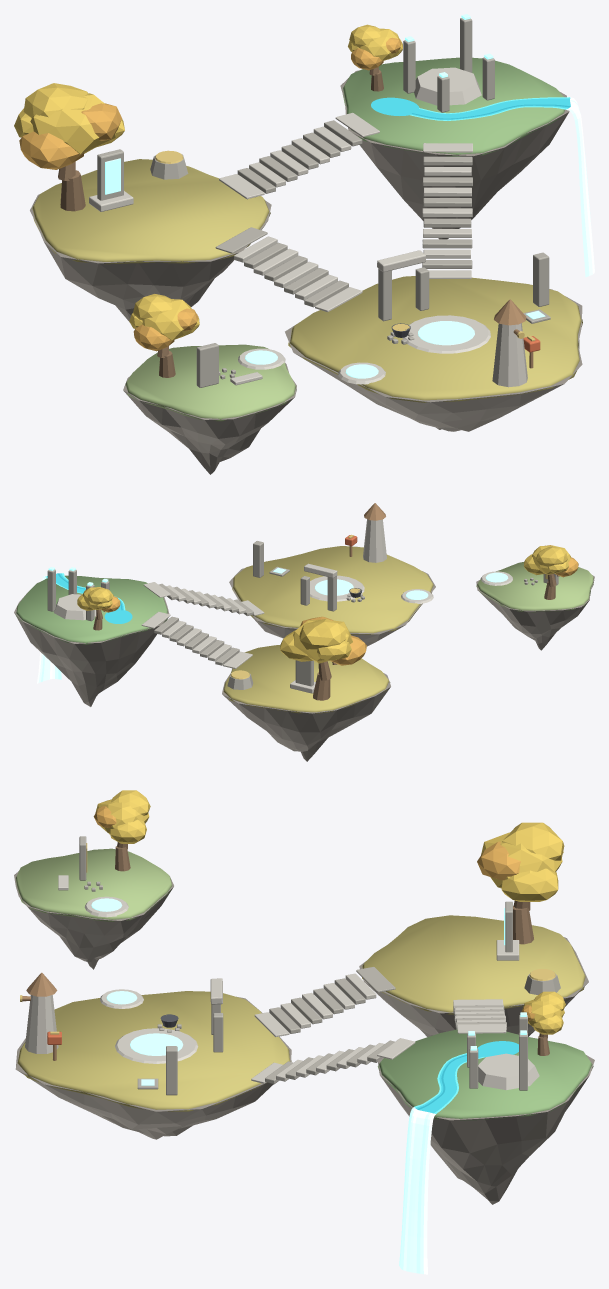
Rendered from sky-island-v2.glb.
3 renders of one model, top to bottom at view 1: azimuth 30°, elevation 25°; view 2: azimuth 150°, elevation 25°; view 3: azimuth 270°, elevation 25°, orthographic. The views are drawn at different scales.
Visible parts, largest first — view 1: 广场 · 草地, 古树林 · 草地, 山巅 · 草地, 飞岛 · 草地, 山巅 · 岩体, 古树林 · 岩体, 广场 · 岩体, 飞岛 · 岩体, 银杏母树 · 树冠 01, 风车 · 塔身, 造物星盘 · 祭台底座, 银杏母树 · 树冠 02 (+22 smaller); view 2: 广场 · 草地, 古树林 · 草地, 山巅 · 草地, 山巅 · 岩体, 古树林 · 岩体, 飞岛 · 草地, 飞岛 · 岩体, 银杏母树 · 树冠 04, 广场 · 岩体, 风车 · 塔身, 造物星盘 · 祭台底座, 觉醒石阵 · 外台 (+11 smaller); view 3: 广场 · 草地, 古树林 · 草地, 山巅 · 草地, 山巅 · 岩体, 飞岛 · 草地, 广场 · 岩体, 东崖 · 瀑布水帘, 飞岛 · 岩体, 古树林 · 岩体, 造物星盘 · 祭台底座, 银杏母树 · 树冠 03, 风车 · 塔身 (+9 smaller).
Boxes of the visible parts, x1=… form: 广场 · 草地: x1=288, y1=276, x2=582, y2=402; 古树林 · 草地: x1=32, y1=159, x2=270, y2=264; 山巅 · 草地: x1=342, y1=57, x2=564, y2=156; 飞岛 · 草地: x1=125, y1=344, x2=296, y2=421; 山巅 · 岩体: x1=340, y1=70, x2=569, y2=239; 古树林 · 岩体: x1=30, y1=194, x2=271, y2=321; 广场 · 岩体: x1=285, y1=289, x2=582, y2=431; 飞岛 · 岩体: x1=123, y1=363, x2=296, y2=474; 银杏母树 · 树冠 01: x1=30, y1=93, x2=115, y2=154; 风车 · 塔身: x1=492, y1=323, x2=527, y2=387; 造物星盘 · 祭台底座: x1=414, y1=67, x2=481, y2=105; 银杏母树 · 树冠 02: x1=19, y1=131, x2=84, y2=169; 广场 · 草地: x1=232, y1=546, x2=433, y2=634; 古树林 · 草地: x1=223, y1=644, x2=390, y2=713; 山巅 · 草地: x1=16, y1=575, x2=167, y2=644; 山巅 · 岩体: x1=14, y1=582, x2=169, y2=706; 古树林 · 岩体: x1=222, y1=668, x2=390, y2=761; 飞岛 · 草地: x1=476, y1=562, x2=594, y2=612; 飞岛 · 岩体: x1=476, y1=575, x2=594, y2=650; 银杏母树 · 树冠 04: x1=299, y1=618, x2=346, y2=649; 广场 · 岩体: x1=229, y1=546, x2=435, y2=646; 风车 · 塔身: x1=363, y1=519, x2=386, y2=562; 造物星盘 · 祭台底座: x1=54, y1=594, x2=96, y2=620; 觉醒石阵 · 外台: x1=310, y1=575, x2=364, y2=601; 广场 · 草地: x1=17, y1=991, x2=291, y2=1111; 古树林 · 草地: x1=362, y1=915, x2=585, y2=1014; 山巅 · 草地: x1=377, y1=1029, x2=593, y2=1120; 山巅 · 岩体: x1=377, y1=1055, x2=594, y2=1204; 飞岛 · 草地: x1=15, y1=848, x2=172, y2=921; 广场 · 岩体: x1=15, y1=996, x2=291, y2=1139; 东崖 · 瀑布水帘: x1=399, y1=1107, x2=435, y2=1274; 飞岛 · 岩体: x1=14, y1=871, x2=173, y2=969; 古树林 · 岩体: x1=359, y1=927, x2=588, y2=1036; 造物星盘 · 祭台底座: x1=478, y1=1053, x2=539, y2=1090; 银杏母树 · 树冠 03: x1=501, y1=868, x2=558, y2=901; 风车 · 塔身: x1=25, y1=995, x2=58, y2=1053.
Bounding box in the file's own units: 31.39 × 11.79 × 26.82.
